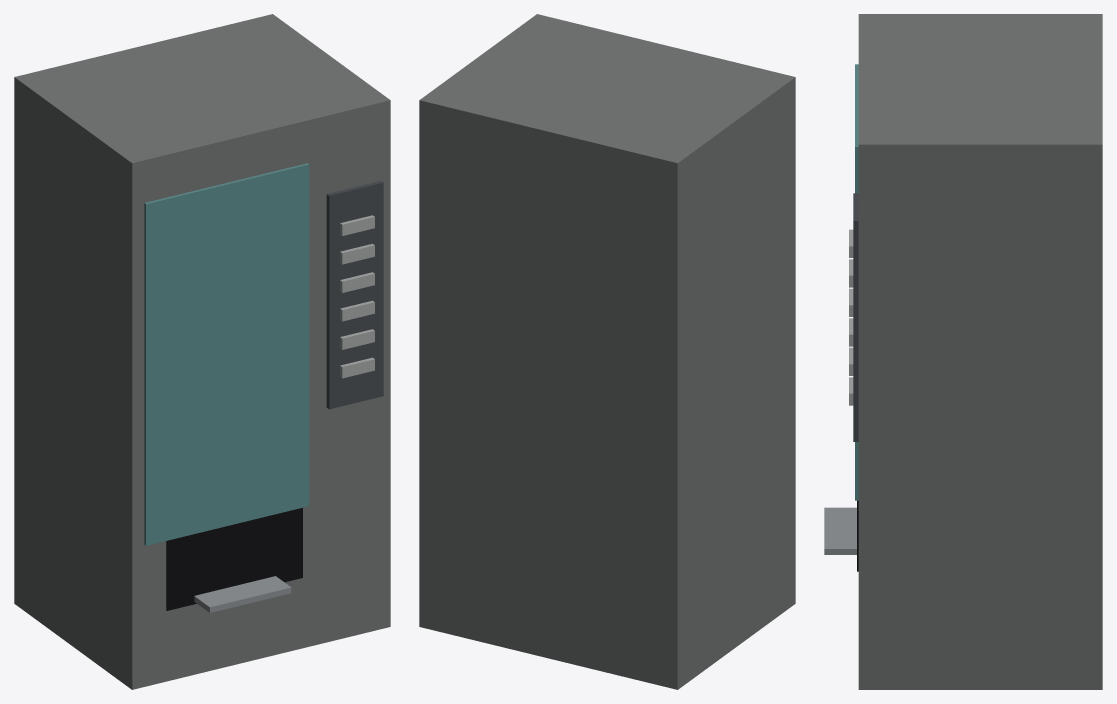
File: Vending_machine_coffee.obj
The picture shows the model from 3 angles, left to right: view 1: azimuth 30°, elevation 25°; view 2: azimuth 150°, elevation 25°; view 3: azimuth 270°, elevation 25°; orthographic projection. The views are drawn at different scales.
Parts seen in each view (by area): view 1: Vending_machine_coffee; view 2: Vending_machine_coffee; view 3: Vending_machine_coffee.
Part boxes in pixels (x1,y1,x2,y2): Vending_machine_coffee: (14,14,390,689); Vending_machine_coffee: (419,14,795,689); Vending_machine_coffee: (824,14,1102,689).
Bounding box in the file's own units: 0.95 × 1.85 × 0.855.
